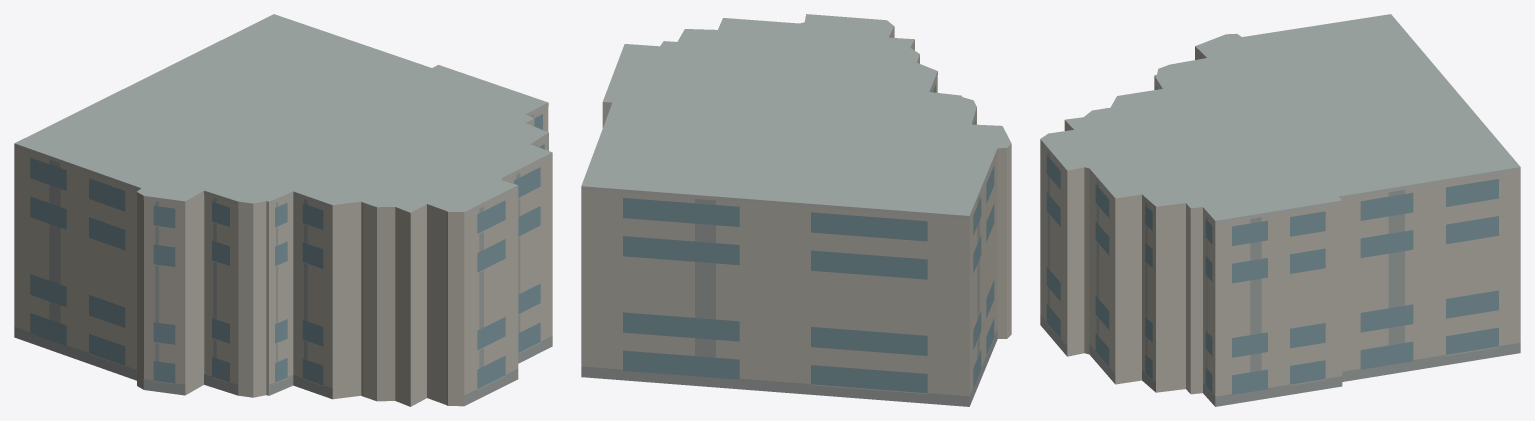
Rendered from survey-upis-32815115.glb.
3 renders of one model, left to right at view 1: azimuth 30°, elevation 25°; view 2: azimuth 150°, elevation 25°; view 3: azimuth 270°, elevation 25°, orthographic. The views are drawn at different scales.
Parts seen in each view (by area): view 1: survey-upis-32815115.tmp; view 2: survey-upis-32815115.tmp; view 3: survey-upis-32815115.tmp.
Part boxes in pixels (box(x1,y1,x2,y2)): survey-upis-32815115.tmp: box(14, 14, 552, 406); survey-upis-32815115.tmp: box(581, 14, 1011, 406); survey-upis-32815115.tmp: box(1040, 14, 1520, 406).
Bounding box in the file's own units: 28.15 × 11.8 × 27.63.
